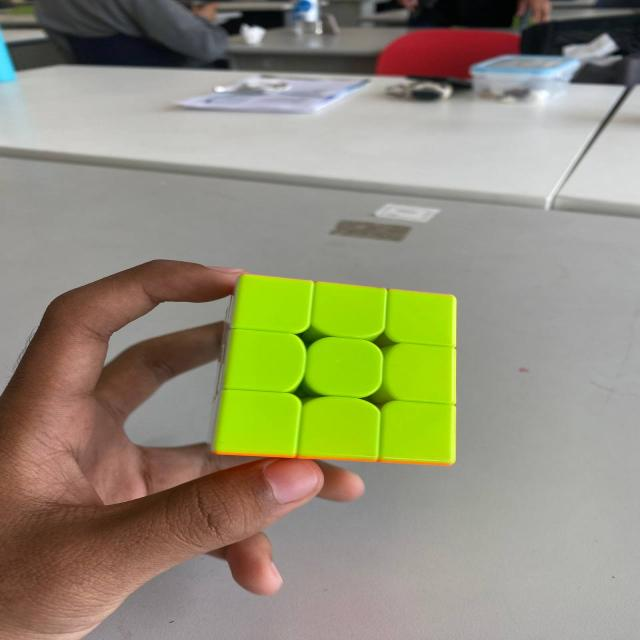Cube-3x3: (192, 264, 517, 473)
